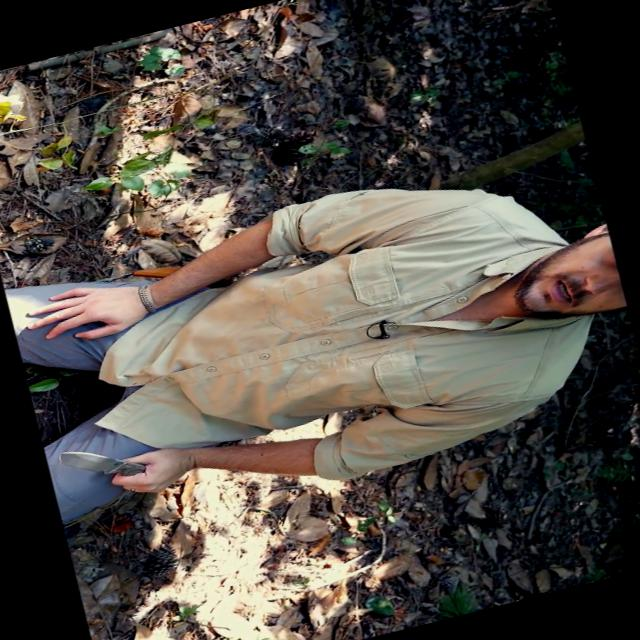knife: (48, 422, 184, 516)
